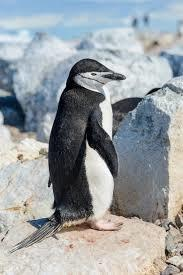chinstrap: (16, 43, 134, 255)
